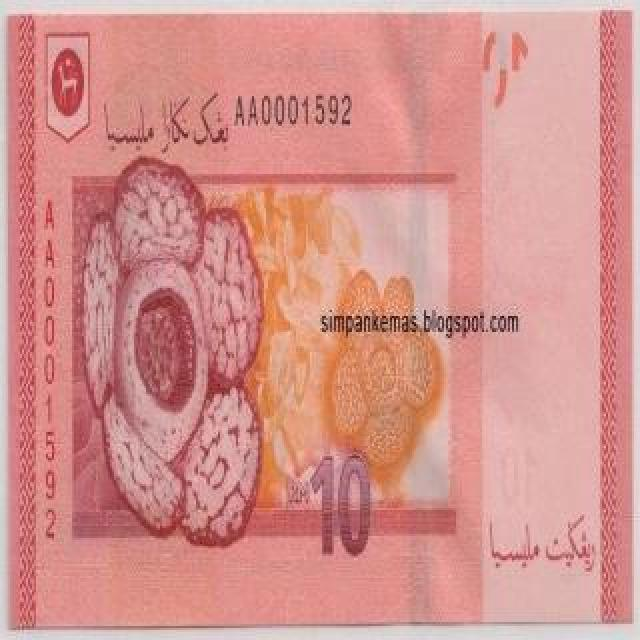10 Ringgit: (6, 12, 631, 633)
